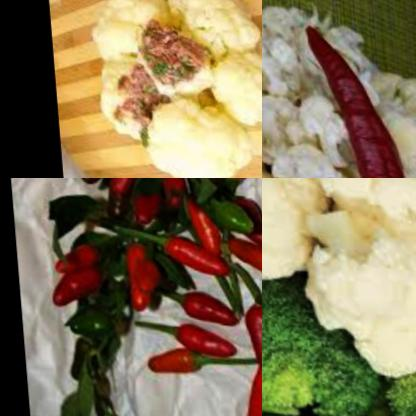broccoli: (262, 260, 416, 411), (262, 362, 416, 416)
cayliflower: (262, 178, 416, 416), (262, 1, 374, 178), (132, 99, 245, 178), (85, 50, 168, 145), (76, 0, 177, 71), (157, 0, 262, 65), (194, 37, 262, 119)
hot pepper: (302, 13, 416, 178), (42, 219, 107, 305), (111, 243, 166, 310), (151, 236, 231, 281), (175, 189, 227, 258), (166, 282, 241, 324), (225, 341, 262, 416), (124, 178, 183, 224), (135, 336, 201, 374), (224, 184, 262, 246), (164, 322, 231, 357), (219, 224, 262, 275), (237, 288, 262, 369), (99, 178, 137, 198)
